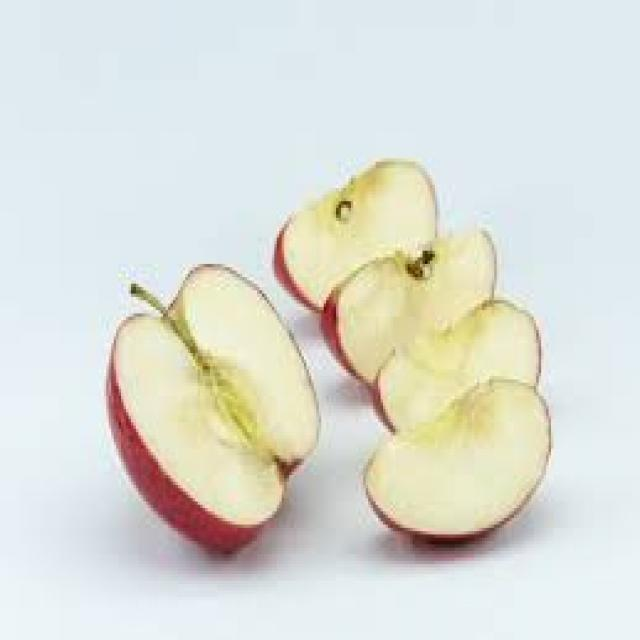Apple: (107, 269, 320, 551), (365, 392, 553, 540), (328, 227, 498, 390), (269, 151, 440, 302), (384, 296, 544, 416)
